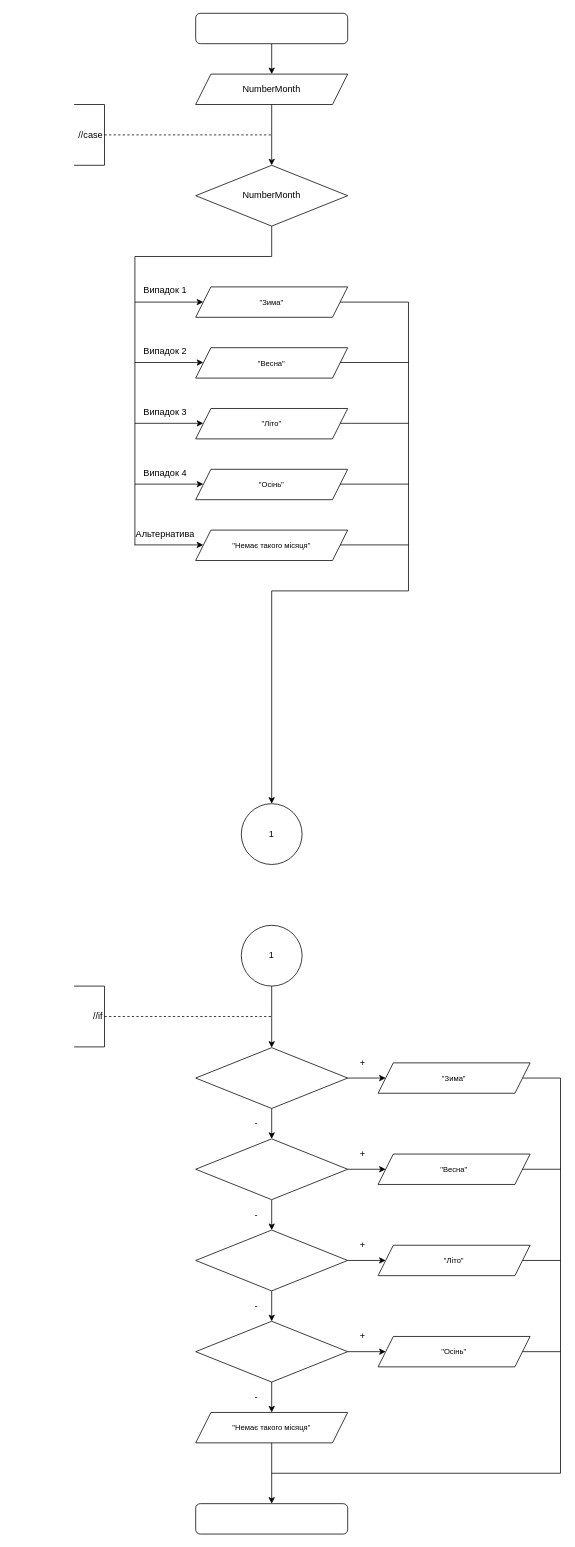
This 575x1547 diagram has some shape labels left out. Here are the shapes that lost their labels. From the top down, the box of each, then its label:
(195, 13, 348, 44): ПОЧАТОК
(195, 1047, 348, 1108): (NumberMonth = 12) or (NumberMonth = 1) or (NumberMonth = 2)
(195, 1138, 348, 1200): (NumberMonth >= 3) and (NumberMonth <= 5)
(195, 1229, 348, 1291): (NumberMonth >= 6) and (NumberMonth <= 8)
(195, 1320, 348, 1382): (NumberMonth >= 9) and (NumberMonth <= 11)
(195, 1503, 348, 1534): КІНЕЦЬ
